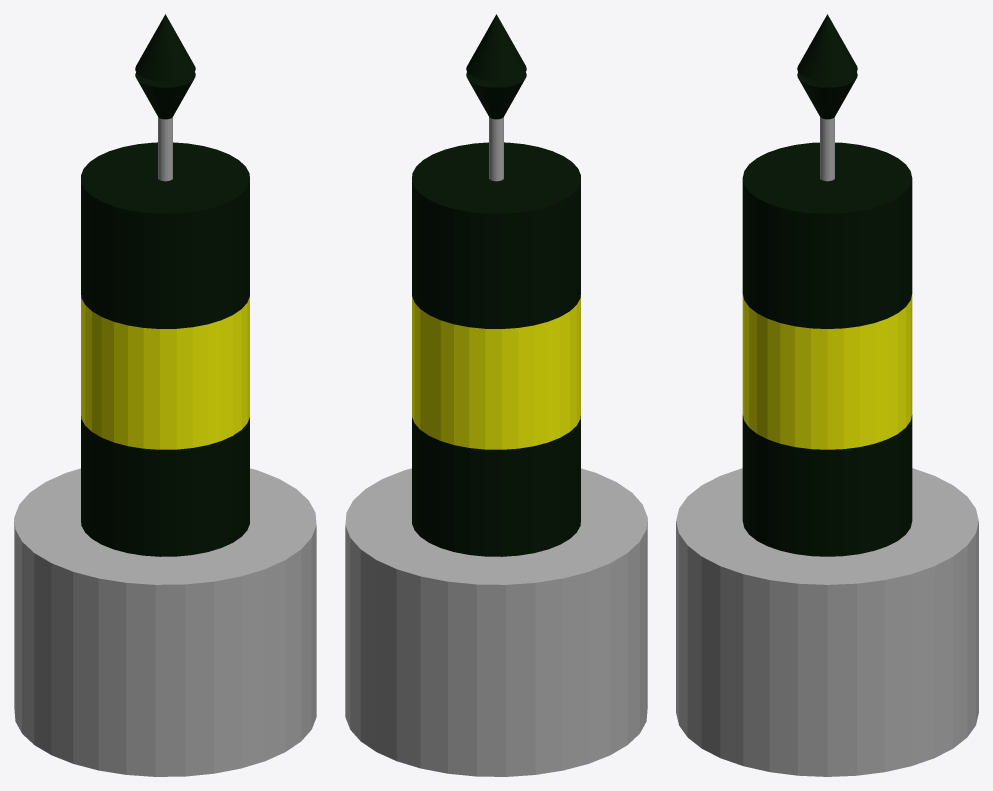
The model's file is Buoy-East.glb.
3 views of the same model, side by side, from view 1: azimuth 30°, elevation 25°; view 2: azimuth 150°, elevation 25°; view 3: azimuth 270°, elevation 25° (orthographic).
Visible parts, largest first — view 1: Bouée, Cone 1, Cone 2, Axe; view 2: Bouée, Cone 1, Cone 2, Axe; view 3: Bouée, Cone 1, Cone 2, Axe.
Part boxes in pixels (x1=…): Bouée: x1=14, y1=142, x2=316, y2=776; Cone 1: x1=135, y1=14, x2=195, y2=81; Cone 2: x1=135, y1=72, x2=195, y2=119; Axe: x1=158, y1=117, x2=172, y2=181; Bouée: x1=345, y1=142, x2=647, y2=776; Cone 1: x1=466, y1=14, x2=526, y2=81; Cone 2: x1=466, y1=72, x2=526, y2=119; Axe: x1=489, y1=117, x2=503, y2=181; Bouée: x1=676, y1=142, x2=978, y2=776; Cone 1: x1=797, y1=14, x2=857, y2=81; Cone 2: x1=797, y1=72, x2=857, y2=119; Axe: x1=820, y1=117, x2=834, y2=181.
Size of the model in its own units: 2 by 5.1 by 2.
